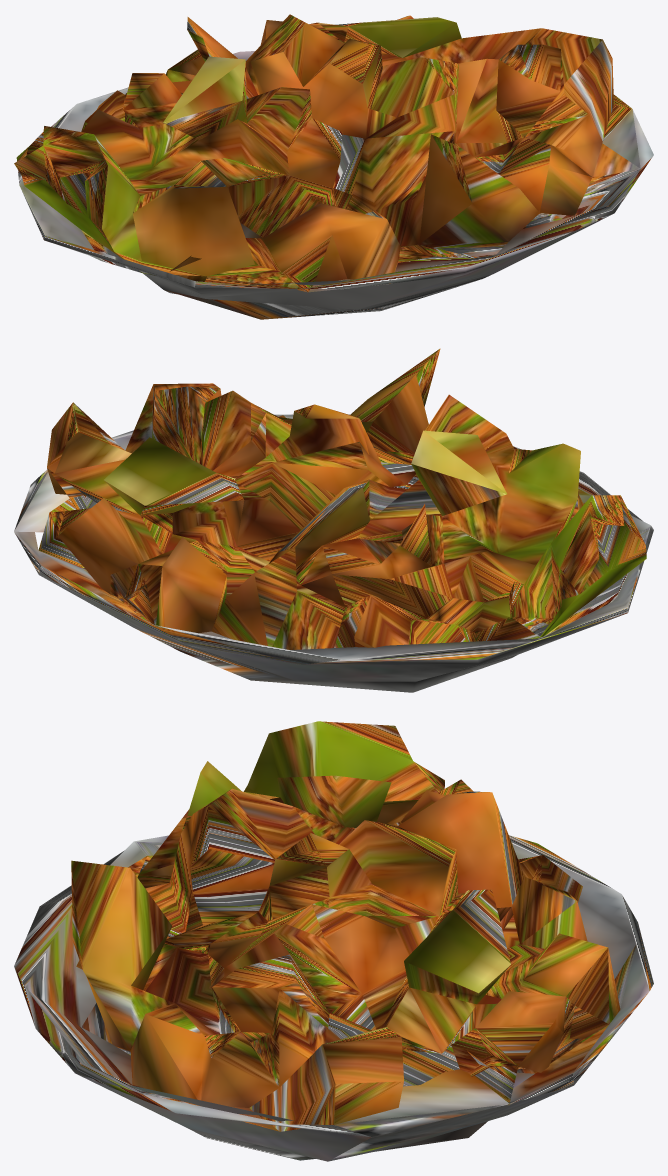
Rendered from torresmo-decor.glb.
3 views of the same model, one above another, from view 1: azimuth 30°, elevation 25°; view 2: azimuth 150°, elevation 25°; view 3: azimuth 270°, elevation 25° (orthographic). The views are drawn at different scales.
Visible parts, largest first — view 1: Porção de torresmo; view 2: Porção de torresmo; view 3: Porção de torresmo.
Boxes of the visible parts, x1,y1,x2,y2 form: Porção de torresmo: (14,14,653,319); Porção de torresmo: (14,348,653,692); Porção de torresmo: (14,721,653,1161).
Bounding box in the file's own units: 0.2286 × 0.08 × 0.1917.
Materials: 1 (1 with a texture image).
